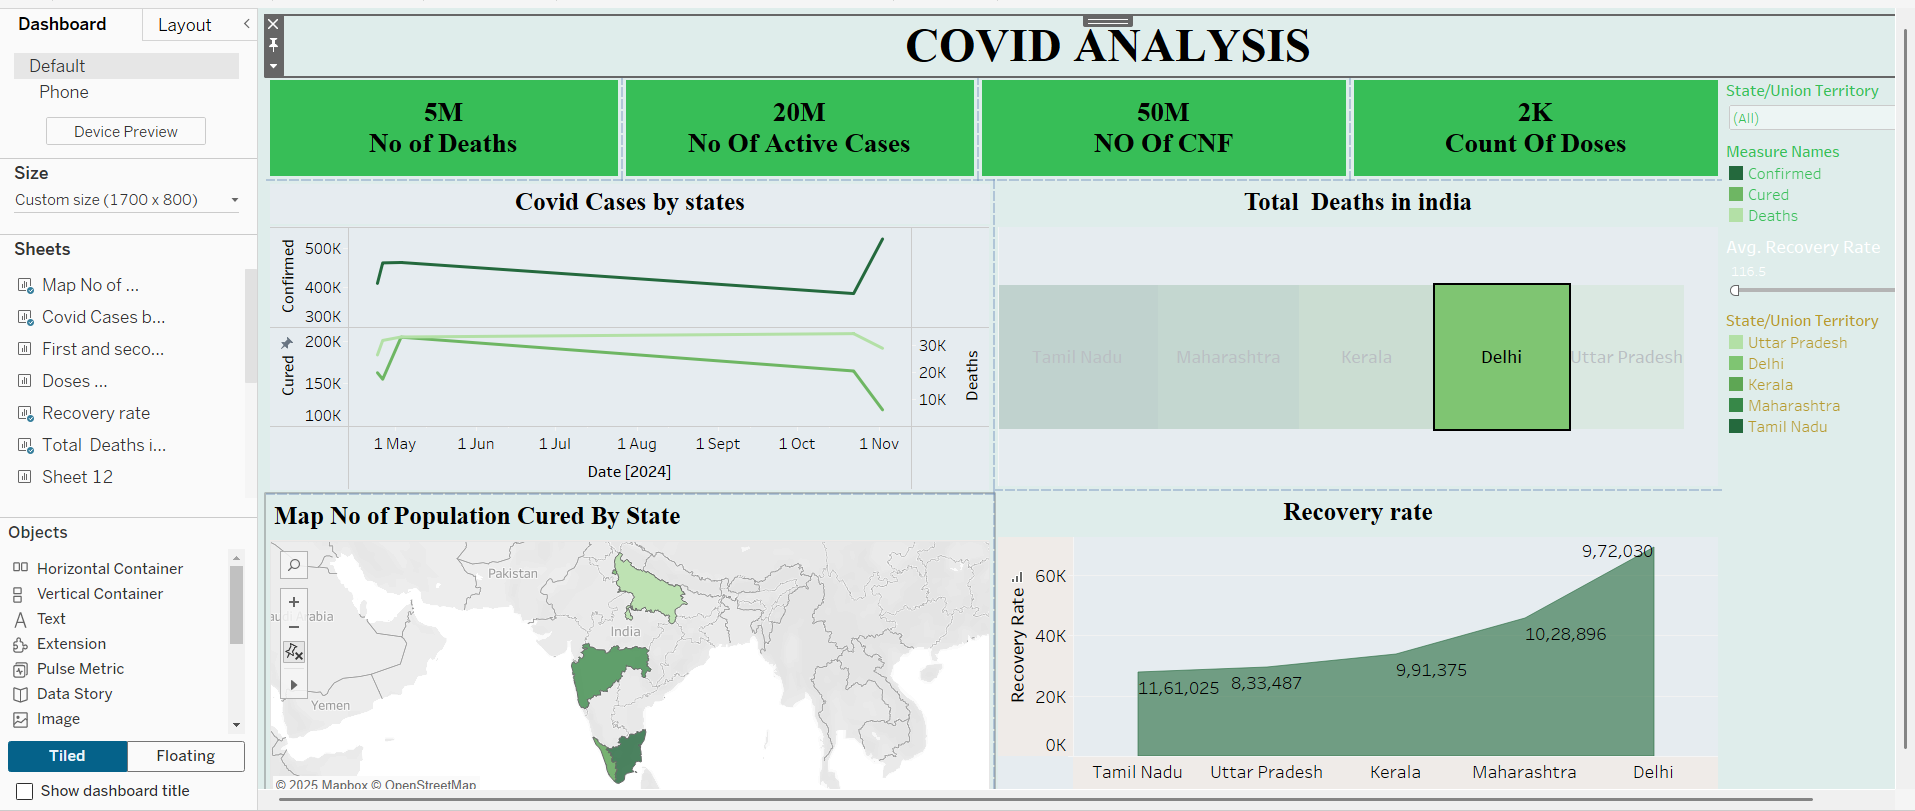

The page's visual inventory and layout, read from the dashboard file:
{"tool":"tableau","page":{"name":"Dashboard 1","canvas":[1700,800],"ordinal":0},"visuals":[{"type":"title","box":[8,8,1684,60]},{"type":"worksheet","title":"KPI1","mark":"Automatic","box":[8,68,355.8,104]},{"type":"worksheet","title":"KPI2","mark":"Automatic","box":[363.8,68,355.8,104]},{"type":"worksheet","title":"KPI3","mark":"Automatic","box":[719.6,68,372.2,104]},{"type":"worksheet","title":"Count of Doses","mark":"Automatic","box":[1091.7,68,372.3,104]},{"type":"filter","title":"Covid Cases by states","param":"[federated.09y8qrr16jlovr1ciq86o13b88vt].[none:State/Union Territory:nk]","box":[1464,68,228,61]},{"type":"legend","title":"Covid Cases by states","param":"[federated.09y8qrr16jlovr1ciq86o13b88vt].[:Measure Names]","box":[1464,129,228,93]},{"type":"worksheet","title":"Covid Cases by states","mark":"Automatic","rows":["Confirmed","Cured","Deaths"],"cols":["Date"],"box":[8,172,728,314.4]},{"type":"worksheet","title":"Total  Deaths in india","mark":"Automatic","cols":["Deaths"],"box":[736,172,728,310]},{"type":"filter","title":"Recovery rate","param":"[federated.09y8qrr16jlovr1ciq86o13b88vt].[avg:Calculation_1125899952730583047:qk","box":[1464,222,228,76]},{"type":"legend","title":"Total  Deaths in india","param":"[federated.09y8qrr16jlovr1ciq86o13b88vt].[none:State/Union Territory:nk]","box":[1464,298,228,135]},{"type":"worksheet","title":"Recovery rate","mark":"Area","rows":["Calculation_1125899952730583047"],"cols":["State/Union Territory"],"box":[736,482,728,310]},{"type":"worksheet","title":"Map No of Population Cured By State","mark":"Automatic","box":[8,486.4,728,305.6]}]}

Visuals, with their boxes in screenshot pixels (x1, y1, x2, y2):
title: box=[257, 8, 1914, 68]
"KPI1" worksheet: box=[257, 68, 614, 172]
"KPI2" worksheet: box=[614, 68, 970, 172]
"KPI3" worksheet: box=[970, 68, 1343, 172]
"Count of Doses" worksheet: box=[1343, 68, 1716, 172]
"Covid Cases by states" filter: box=[1716, 68, 1914, 129]
"Covid Cases by states" legend: box=[1716, 129, 1914, 222]
"Covid Cases by states" worksheet: box=[257, 172, 987, 487]
"Total  Deaths in india" worksheet: box=[987, 172, 1716, 483]
"Recovery rate" filter: box=[1716, 222, 1914, 299]
"Total  Deaths in india" legend: box=[1716, 299, 1914, 434]
"Recovery rate" worksheet (Area marks): box=[987, 483, 1716, 794]
"Map No of Population Cured By State" worksheet: box=[257, 487, 987, 794]
